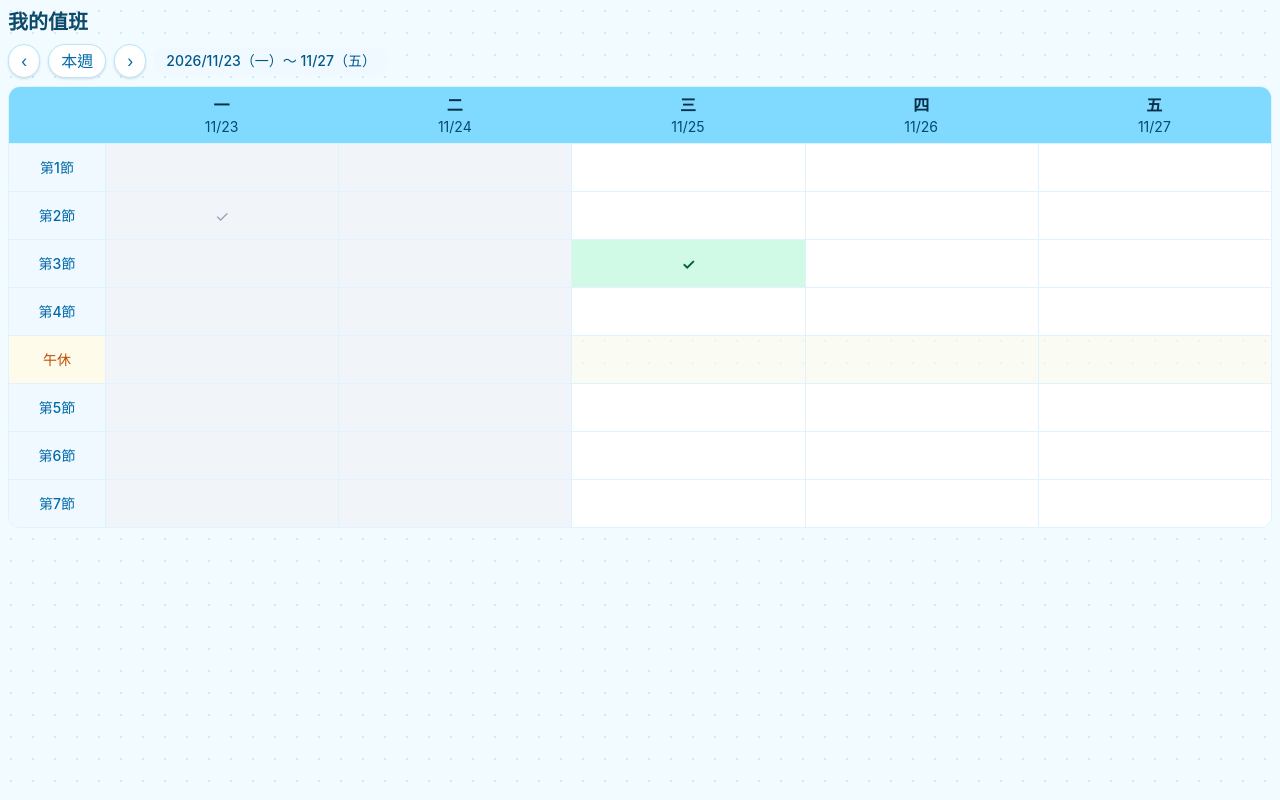
it: MyGridPage › opens the popup for an on cell and sets only this week off via runWithImpact
Click the button "✓".
click(688, 263)  # box [571,239,805,287]
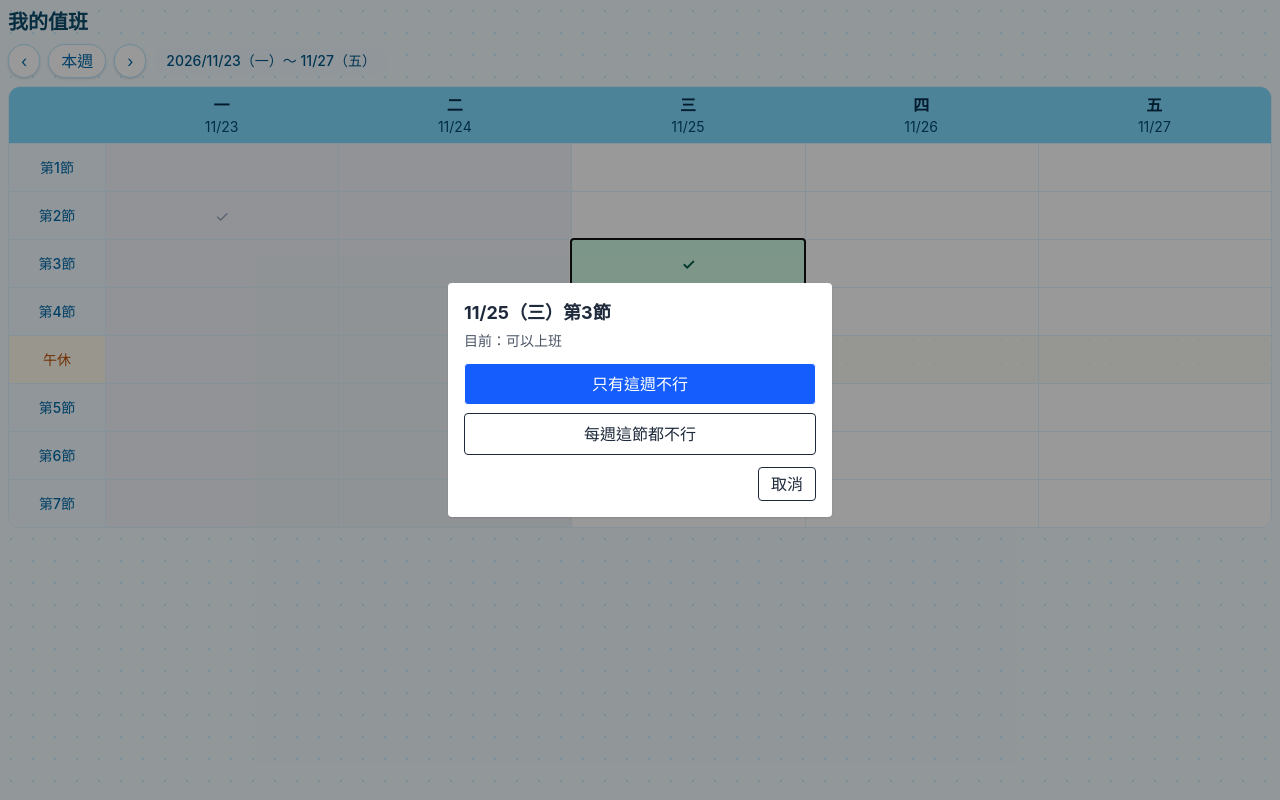
expect the dialog is shown: met, box [448,283,832,517]
expect the button "每週這節都不行" is shown: met, box [464,413,816,455]
Click the button "只有這週不行".
click(640, 384)  # box [464,363,816,405]
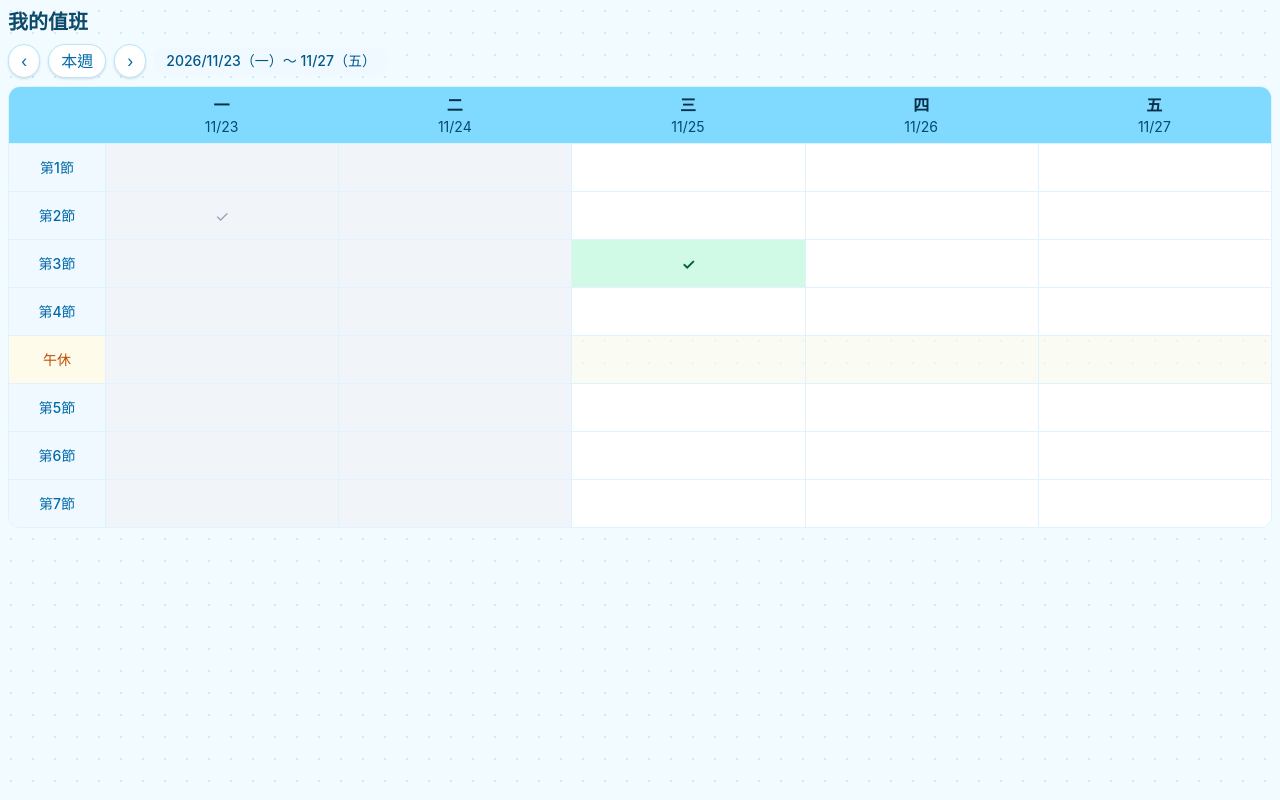
expect the dialog is gone: met
